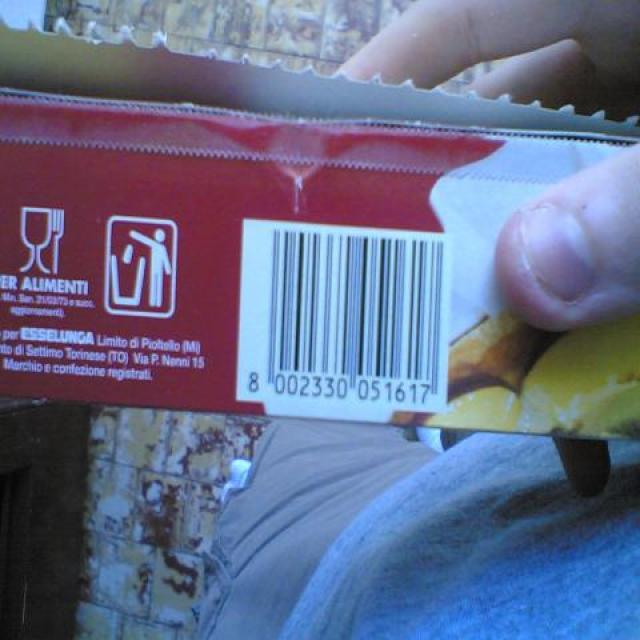Barcode: (235, 213, 452, 415)
